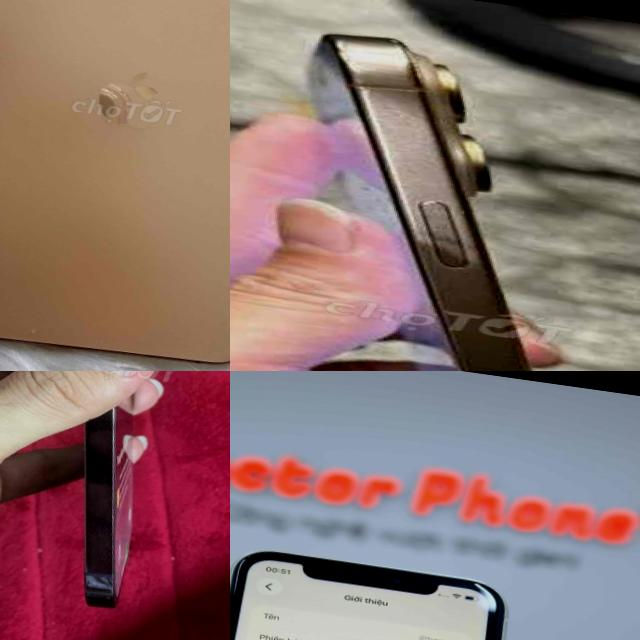gen_11: (0, 0, 230, 371), (230, 540, 525, 640)
gen_14: (8, 371, 223, 630)
gen_16: (230, 7, 640, 371)
